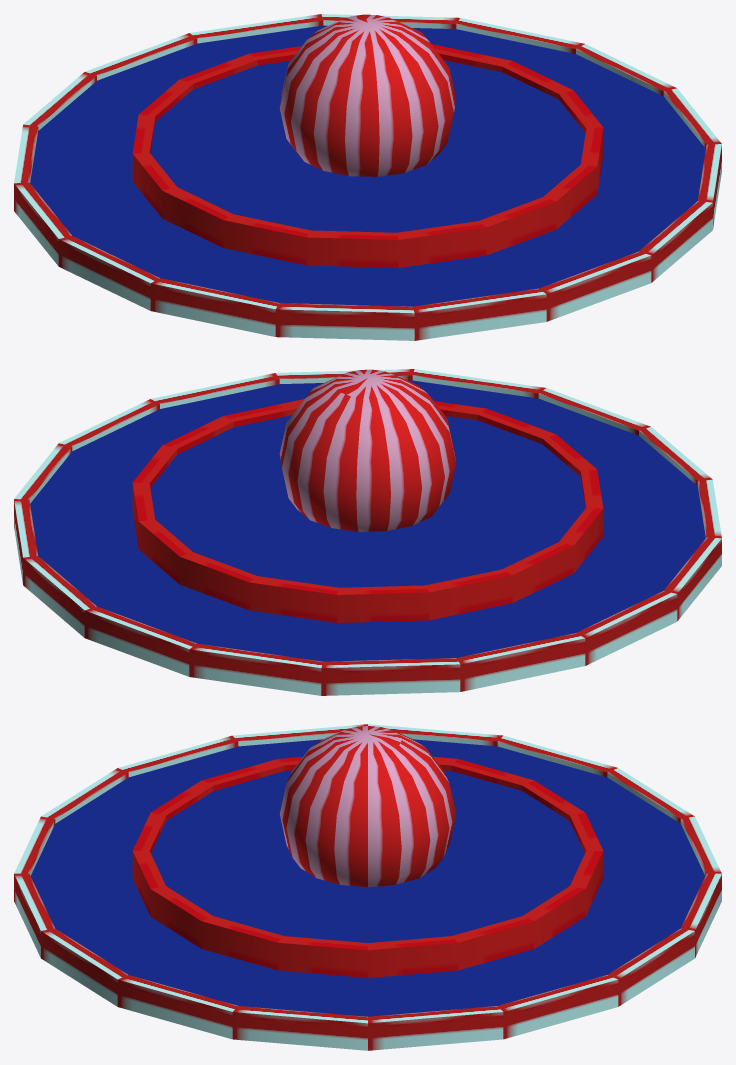
The model's file is SM_Fountain_01.FBX.
The picture shows the model from 3 angles, top to bottom: view 1: azimuth 30°, elevation 25°; view 2: azimuth 150°, elevation 25°; view 3: azimuth 270°, elevation 25°; orthographic projection.
Parts seen in each view (by area): view 1: SM_Fountain_01; view 2: SM_Fountain_01; view 3: SM_Fountain_01.
Boxes of the visible parts, x1,y1,x2,y2 form: SM_Fountain_01: [14, 14, 721, 340]; SM_Fountain_01: [14, 369, 721, 695]; SM_Fountain_01: [14, 724, 721, 1050].
Size of the model in its own units: 14 by 3.65 by 14.
Materials: 2 (1 with a texture image).
